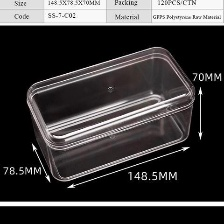plastic_box: (17, 40, 200, 184)
